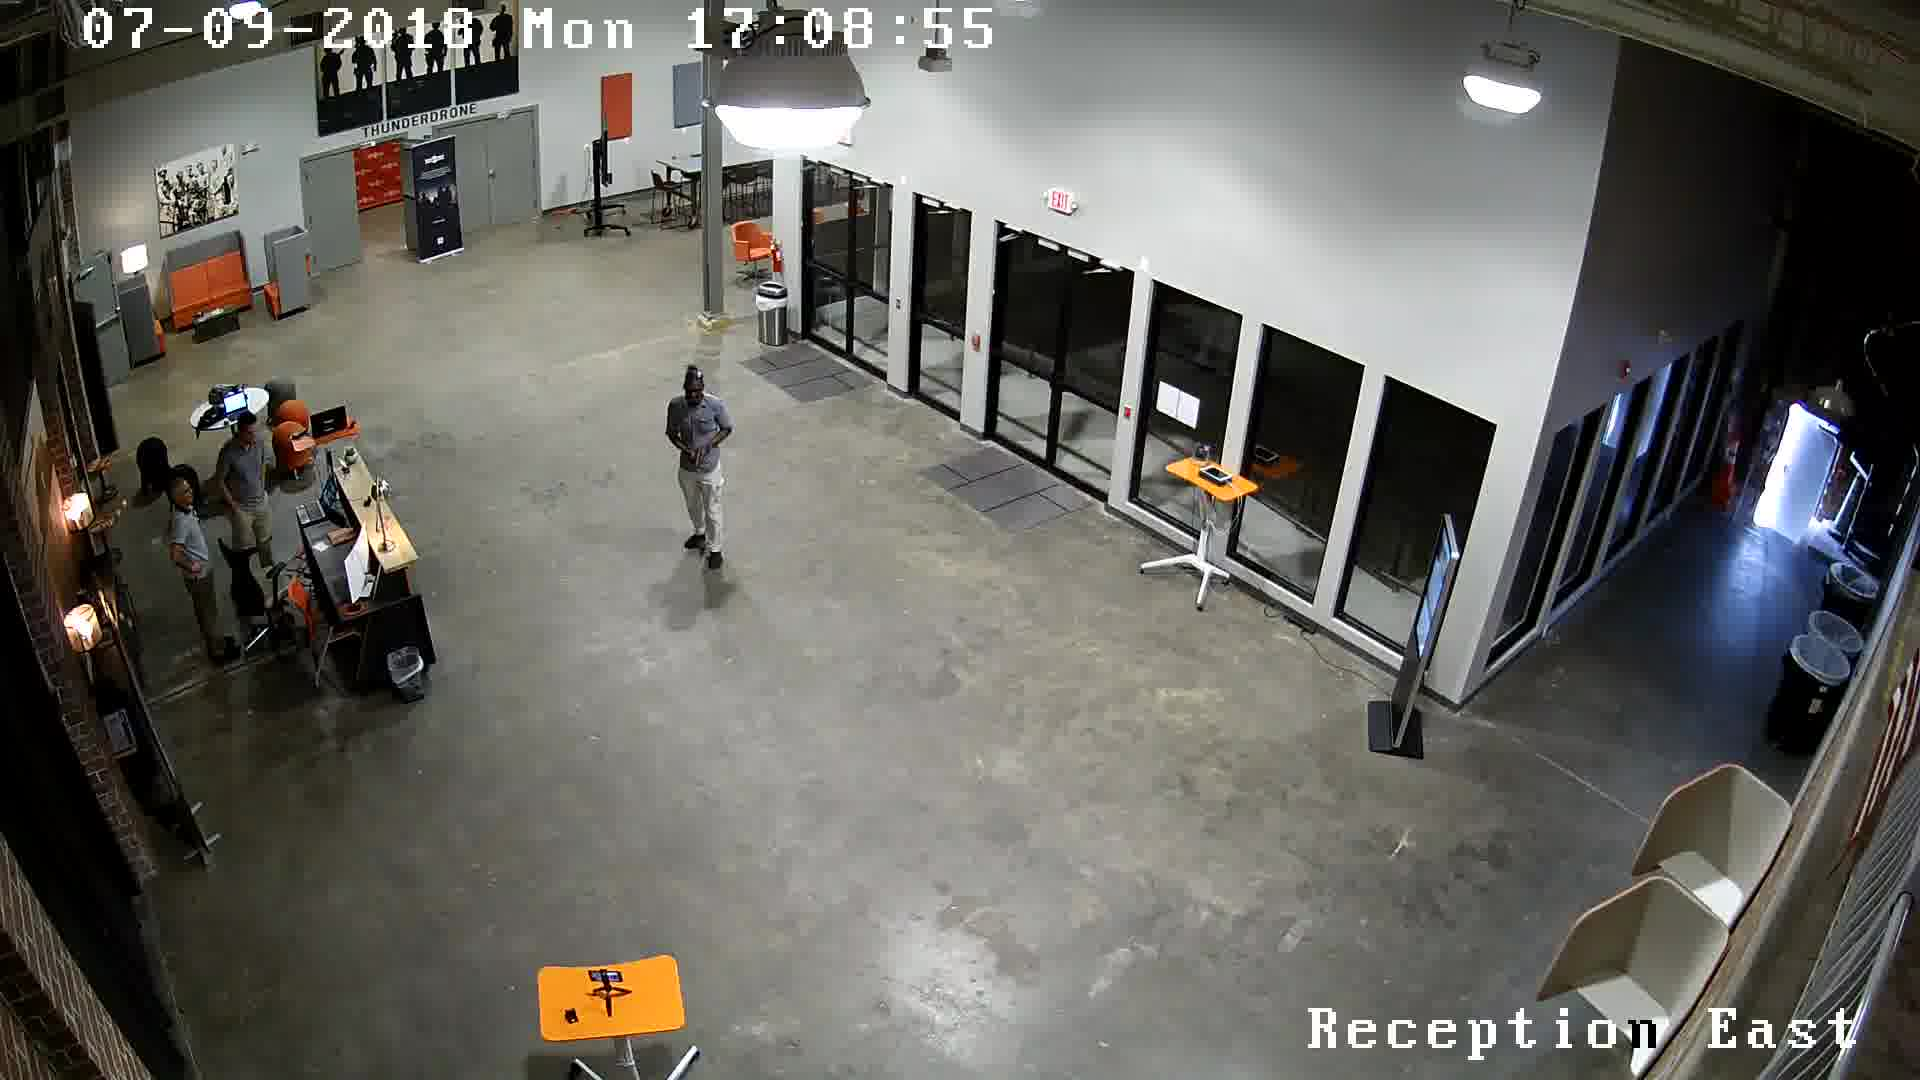pistol: (676, 436, 720, 480)
